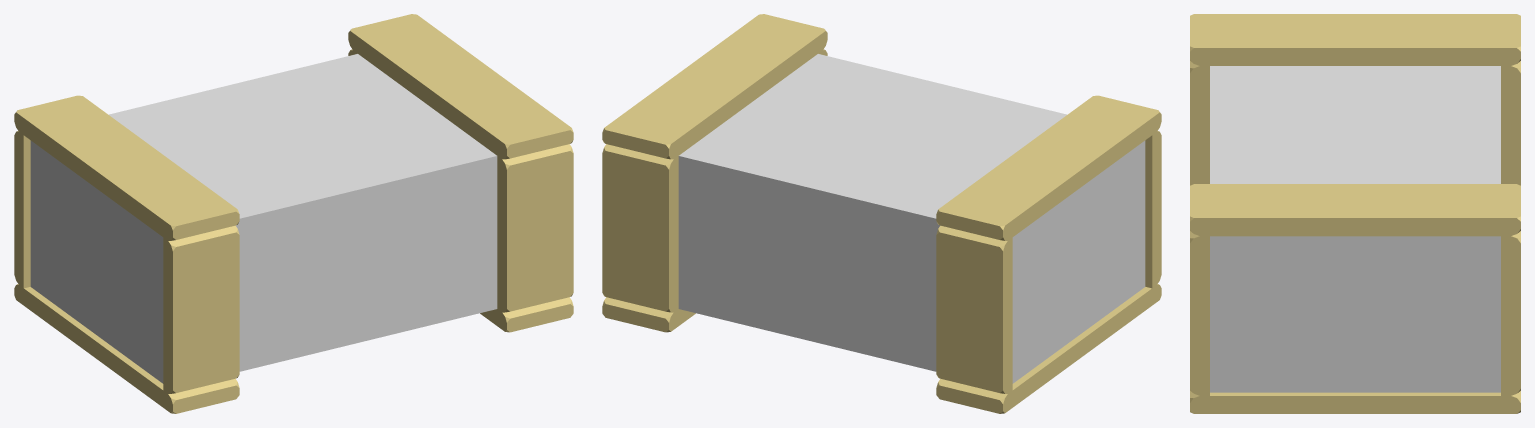
The model's file is SM_Crate_Medium.fbx.
3 views of the same model, side by side, from view 1: azimuth 30°, elevation 25°; view 2: azimuth 150°, elevation 25°; view 3: azimuth 270°, elevation 25° (orthographic). The views are drawn at different scales.
Visible parts, largest first — view 1: Cube; view 2: Cube; view 3: Cube.
Boxes of the visible parts, <box> form: Cube: <box>14,14,573,413</box>; Cube: <box>602,14,1161,413</box>; Cube: <box>1190,14,1520,413</box>.
Size of the model in its own units: 120 by 53.7 by 82.22.
